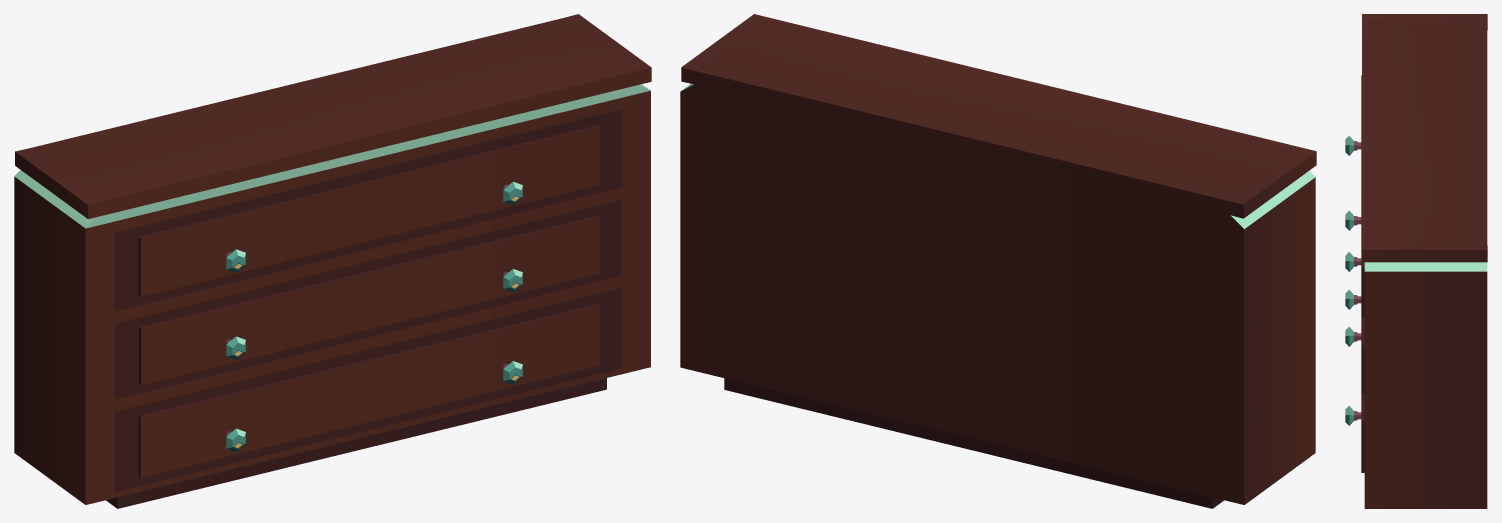
Rendered from Furniture_Dresser01.fbx.
The picture shows the model from 3 angles, left to right: view 1: azimuth 30°, elevation 25°; view 2: azimuth 150°, elevation 25°; view 3: azimuth 270°, elevation 25°; orthographic projection. The views are drawn at different scales.
Visible parts, largest first — view 1: Cube.341; view 2: Cube.341; view 3: Cube.341.
Boxes of the visible parts, bbox=[...] form: Cube.341: bbox=[14, 14, 651, 508]; Cube.341: bbox=[680, 14, 1316, 508]; Cube.341: bbox=[1345, 14, 1487, 508].
Bounding box in the file's own units: 97.29 × 52.38 × 24.71.
